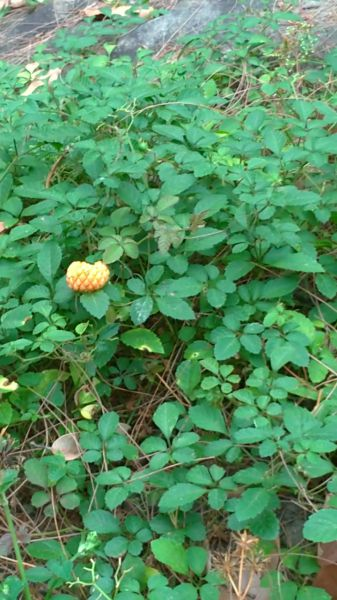eggs: (63, 257, 110, 294)
